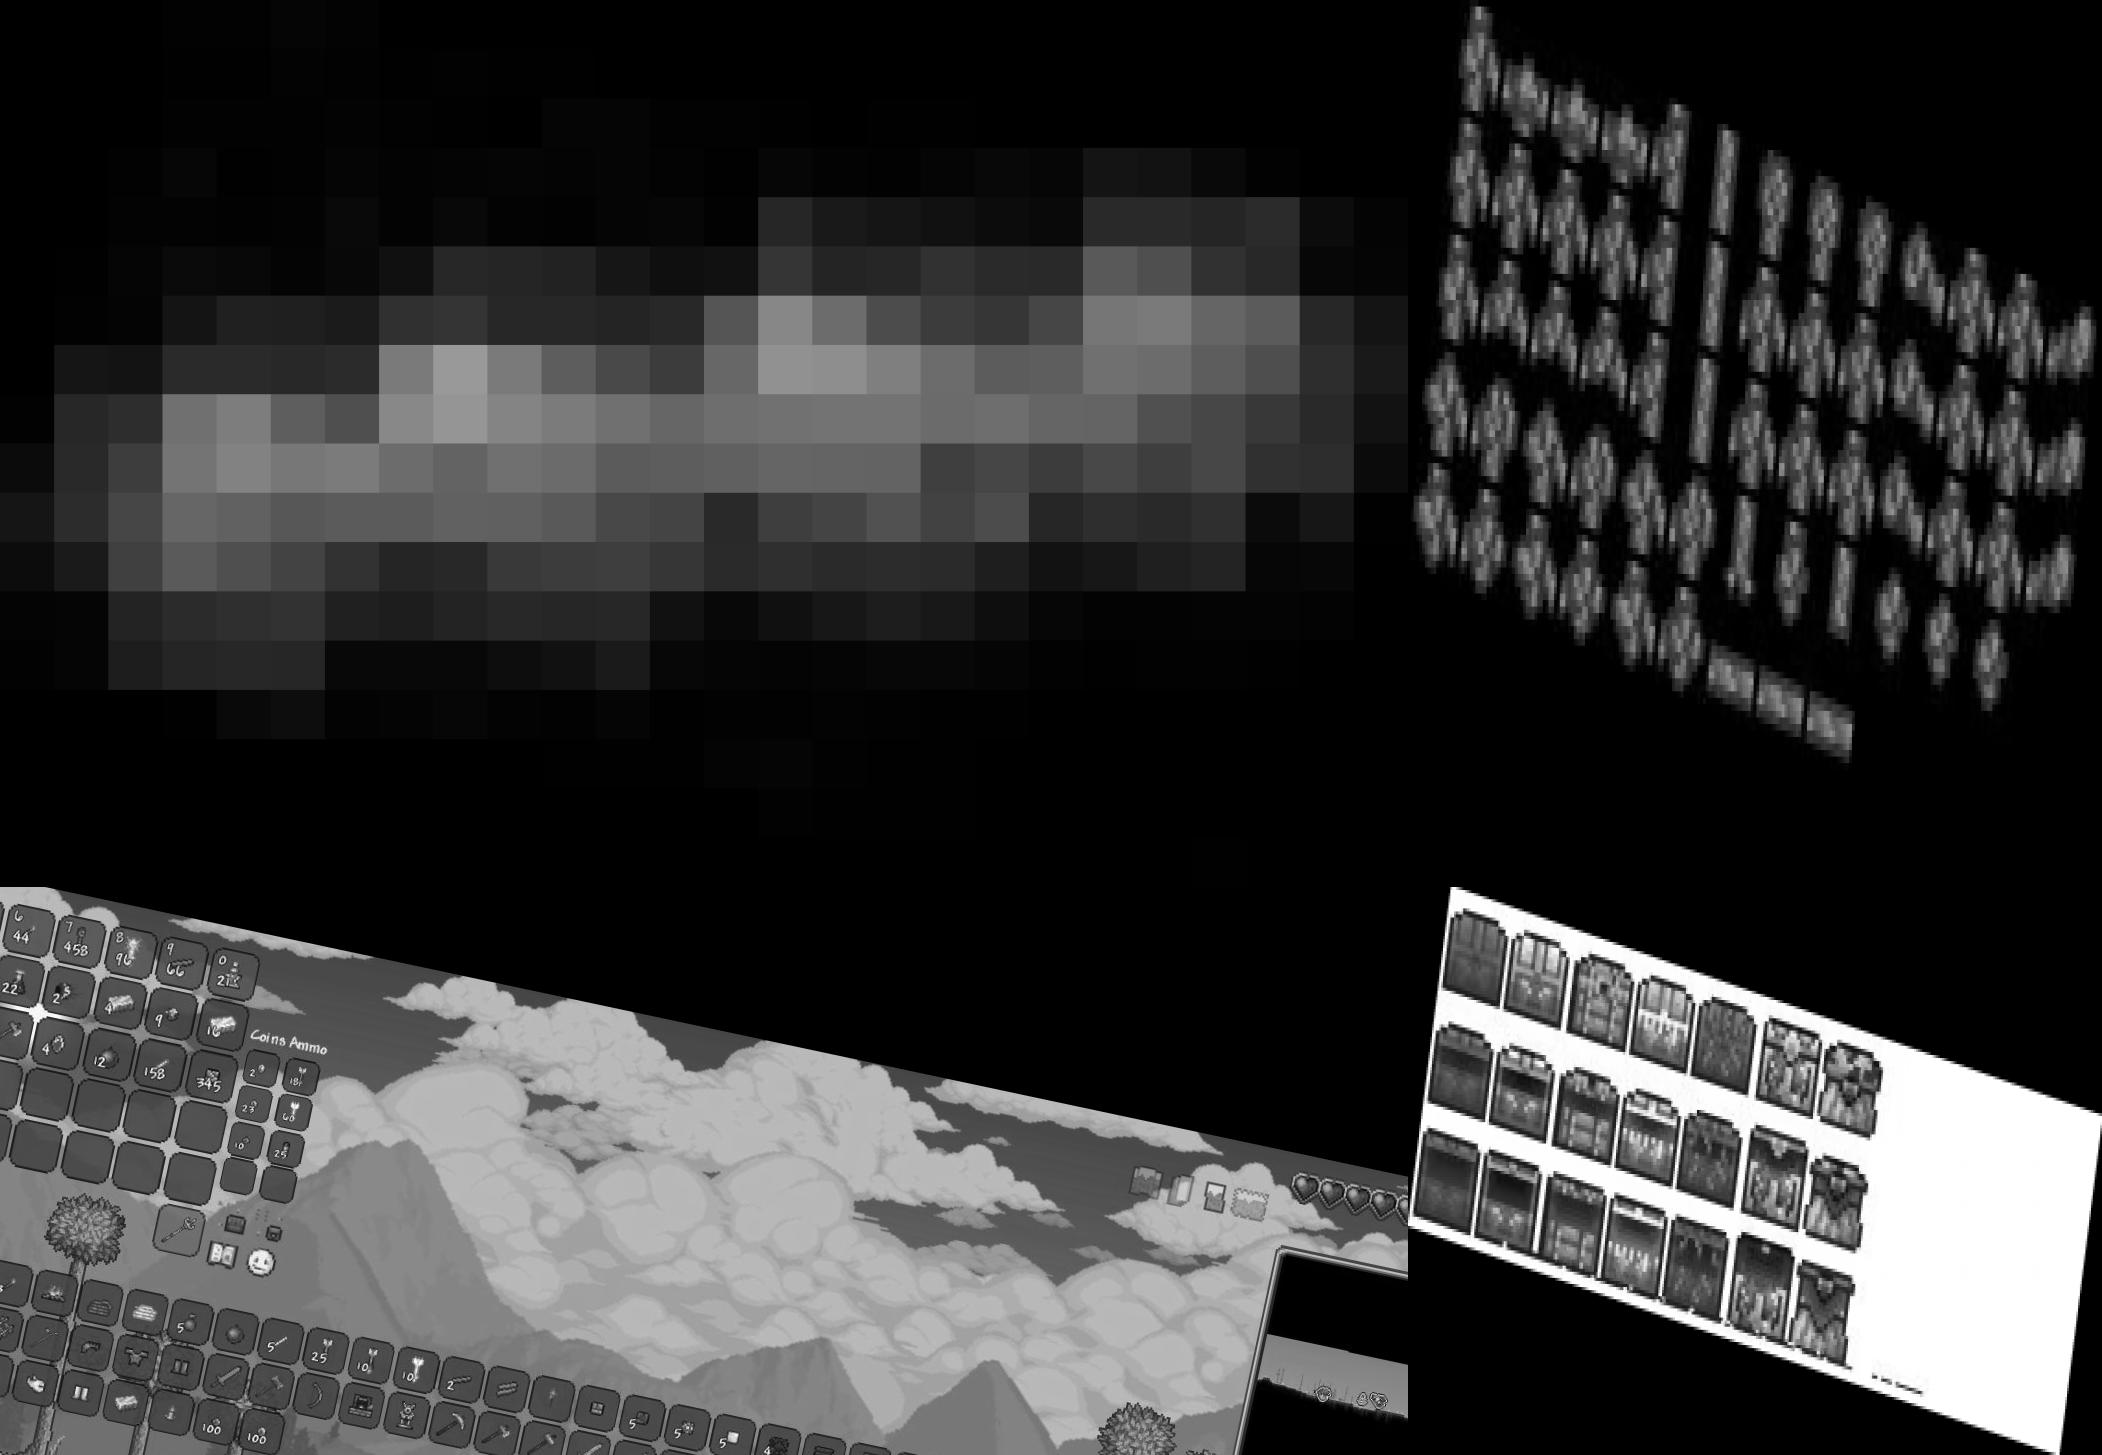chest: (1441, 899, 1513, 1013)
heart: (1286, 1169, 1324, 1206)
platform: (0, 0, 1409, 886)
ropeT: (1452, 0, 1506, 129)
